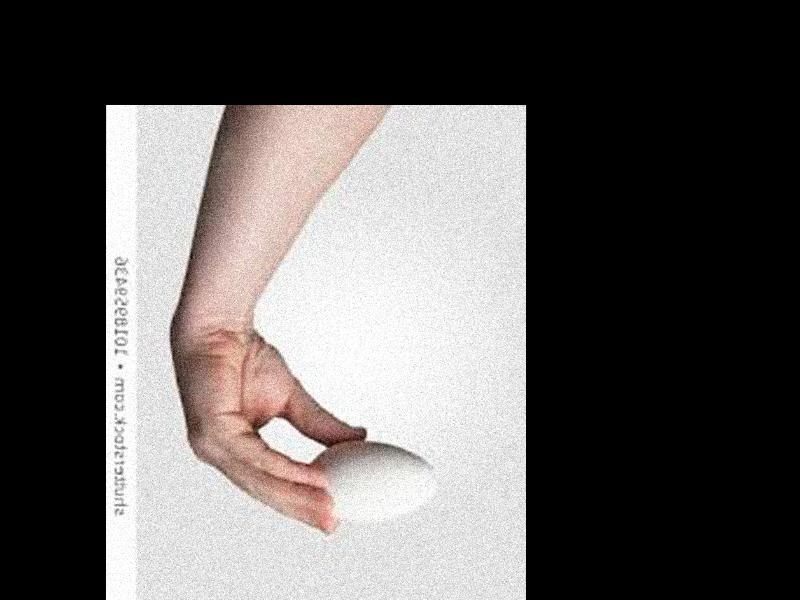Eggs: (308, 440, 439, 525)
